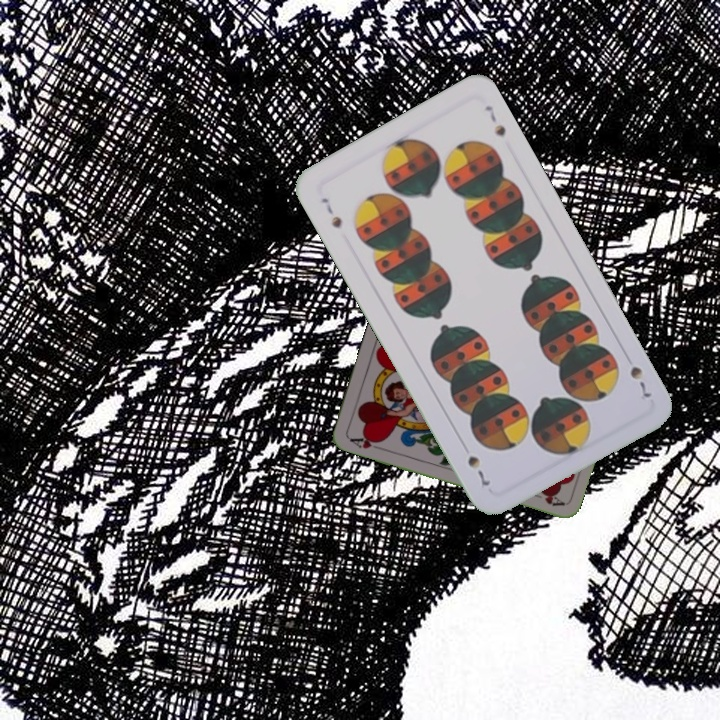HA: (345, 432, 385, 452)
S7: (625, 362, 655, 402), (317, 193, 345, 231)
